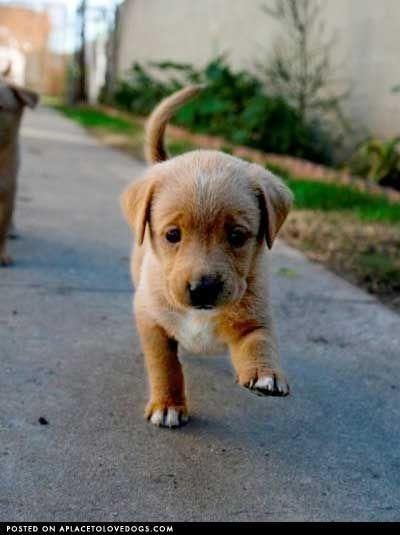adult_dog: (0, 79, 40, 267)
puppy-dog: (121, 83, 293, 427)
